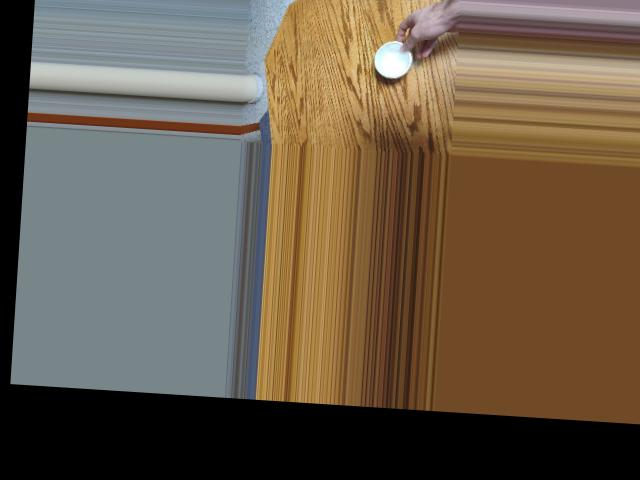cotage: (372, 35, 413, 82)
